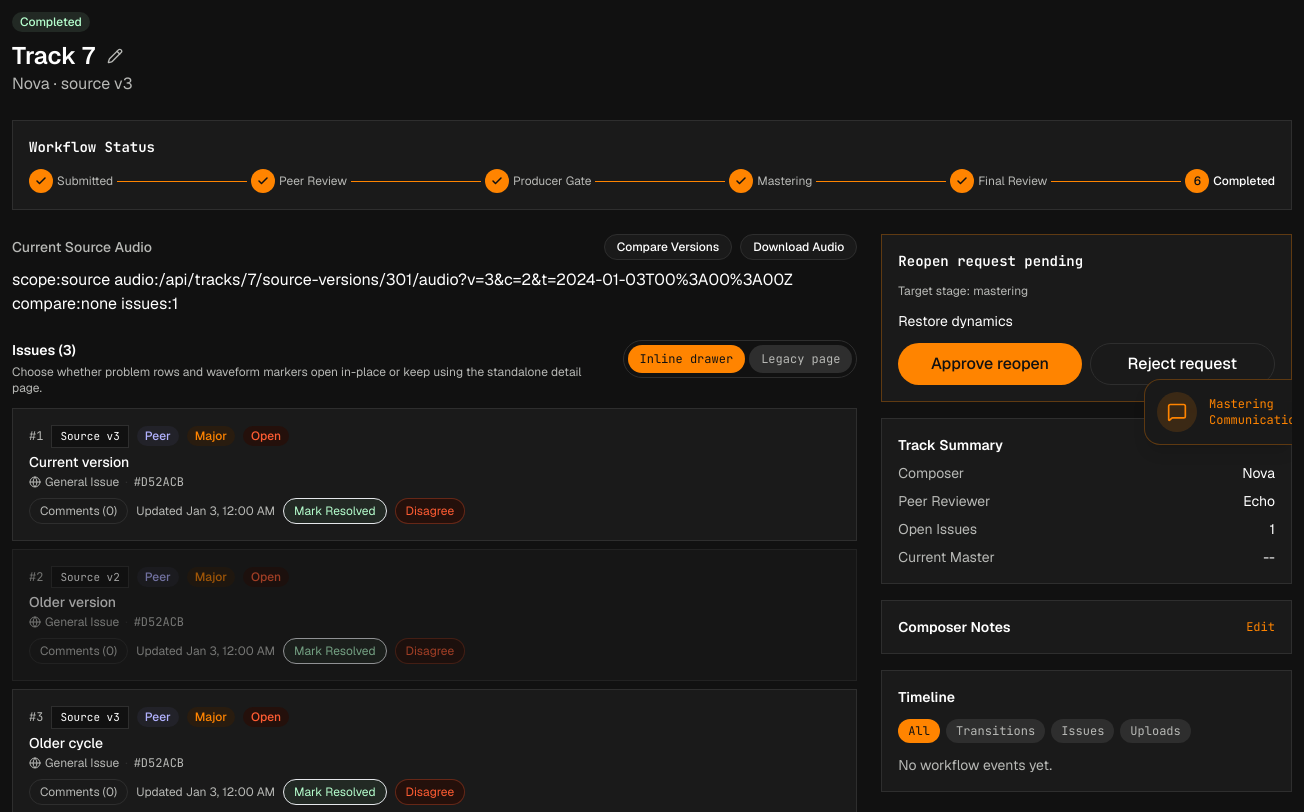
Test case: TrackDetailView › clears the pending reopen card after reject and reloads the next task
Click the button "Reject request" at x=1182, y=364, box [1090,343,1275,385]
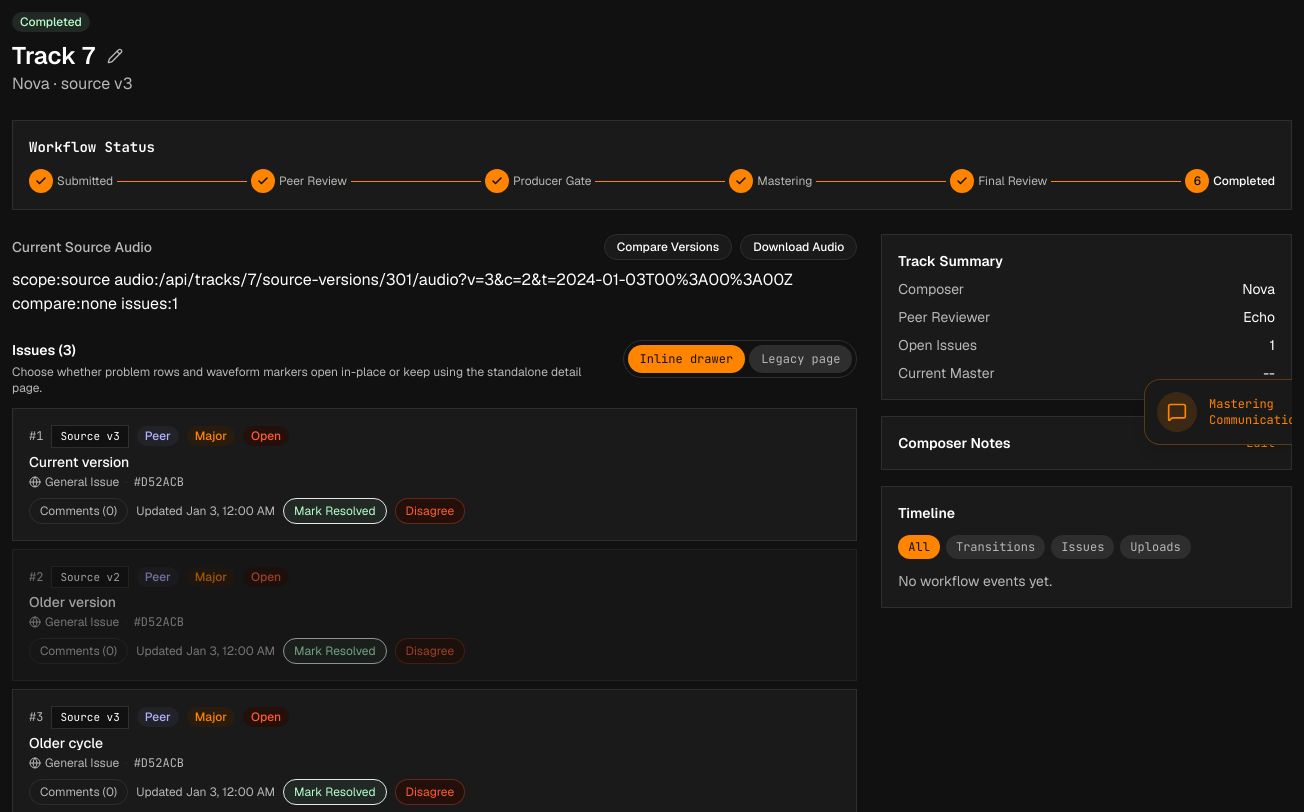
Expected: the text "Restore dynamics" is gone
Expected: the text "Reopen request pending" is gone
